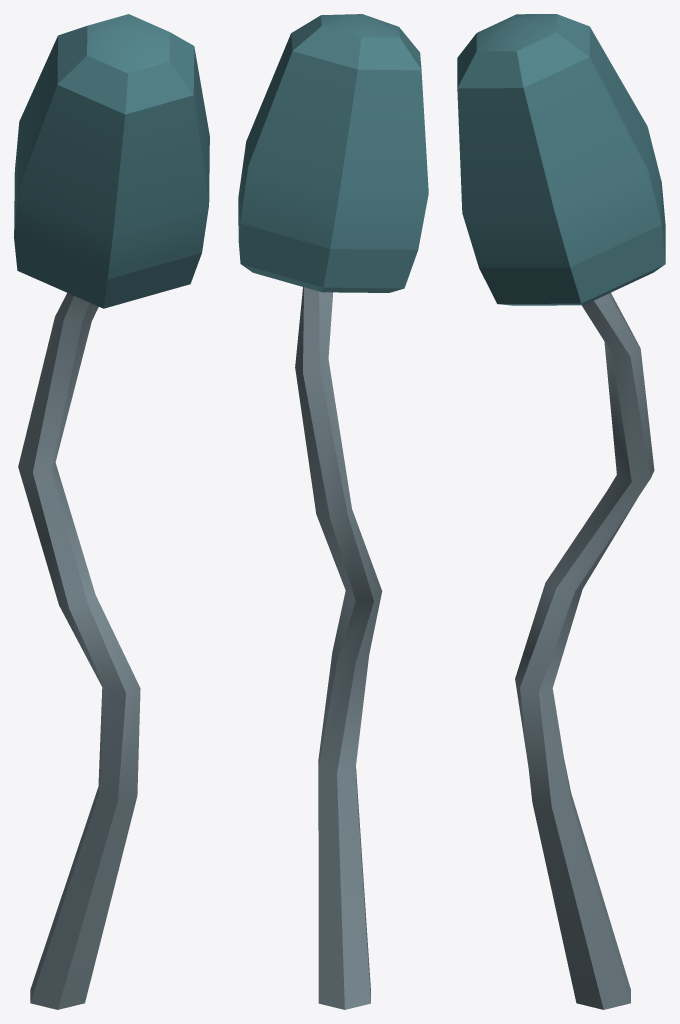
File: mushroom_02.fbx
3 views of the same model, side by side, from view 1: azimuth 30°, elevation 25°; view 2: azimuth 150°, elevation 25°; view 3: azimuth 270°, elevation 25° (orthographic). The views are drawn at different scales.
Visible parts, largest first — view 1: mushroom_v02_p01; view 2: mushroom_v02_p01; view 3: mushroom_v02_p01.
Boxes of the visible parts, x1,y1,x2,y2 form: mushroom_v02_p01: (14, 14, 209, 1009); mushroom_v02_p01: (238, 14, 428, 1009); mushroom_v02_p01: (457, 14, 665, 1009).
Size of the model in its own units: 1.02 by 5.01 by 0.9558.
